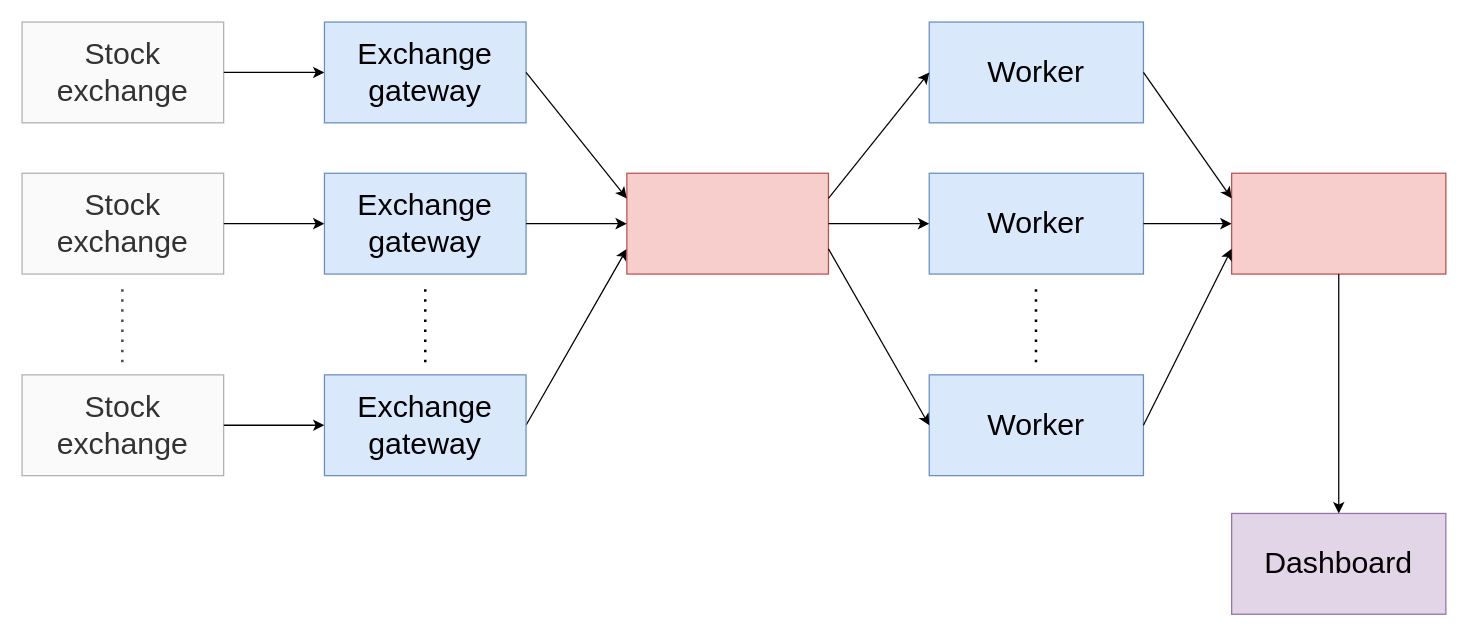
This 1468x636 diagram has some shape labels left out. The centre of each missing label's shape, as x and y in pixels:
Database: the point at 1338,223
pub/sub Broker: the point at 727,223
